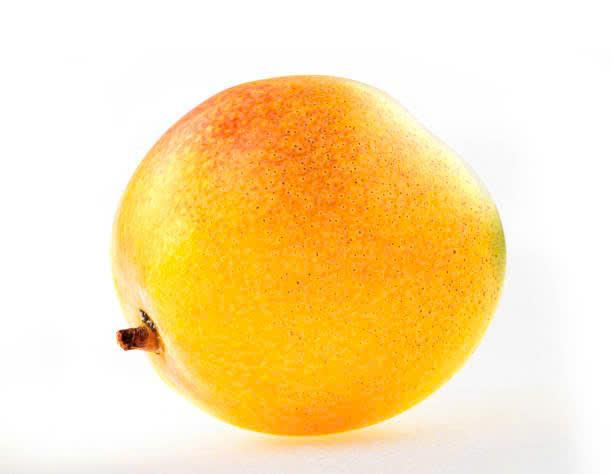mango: (86, 60, 521, 440)
